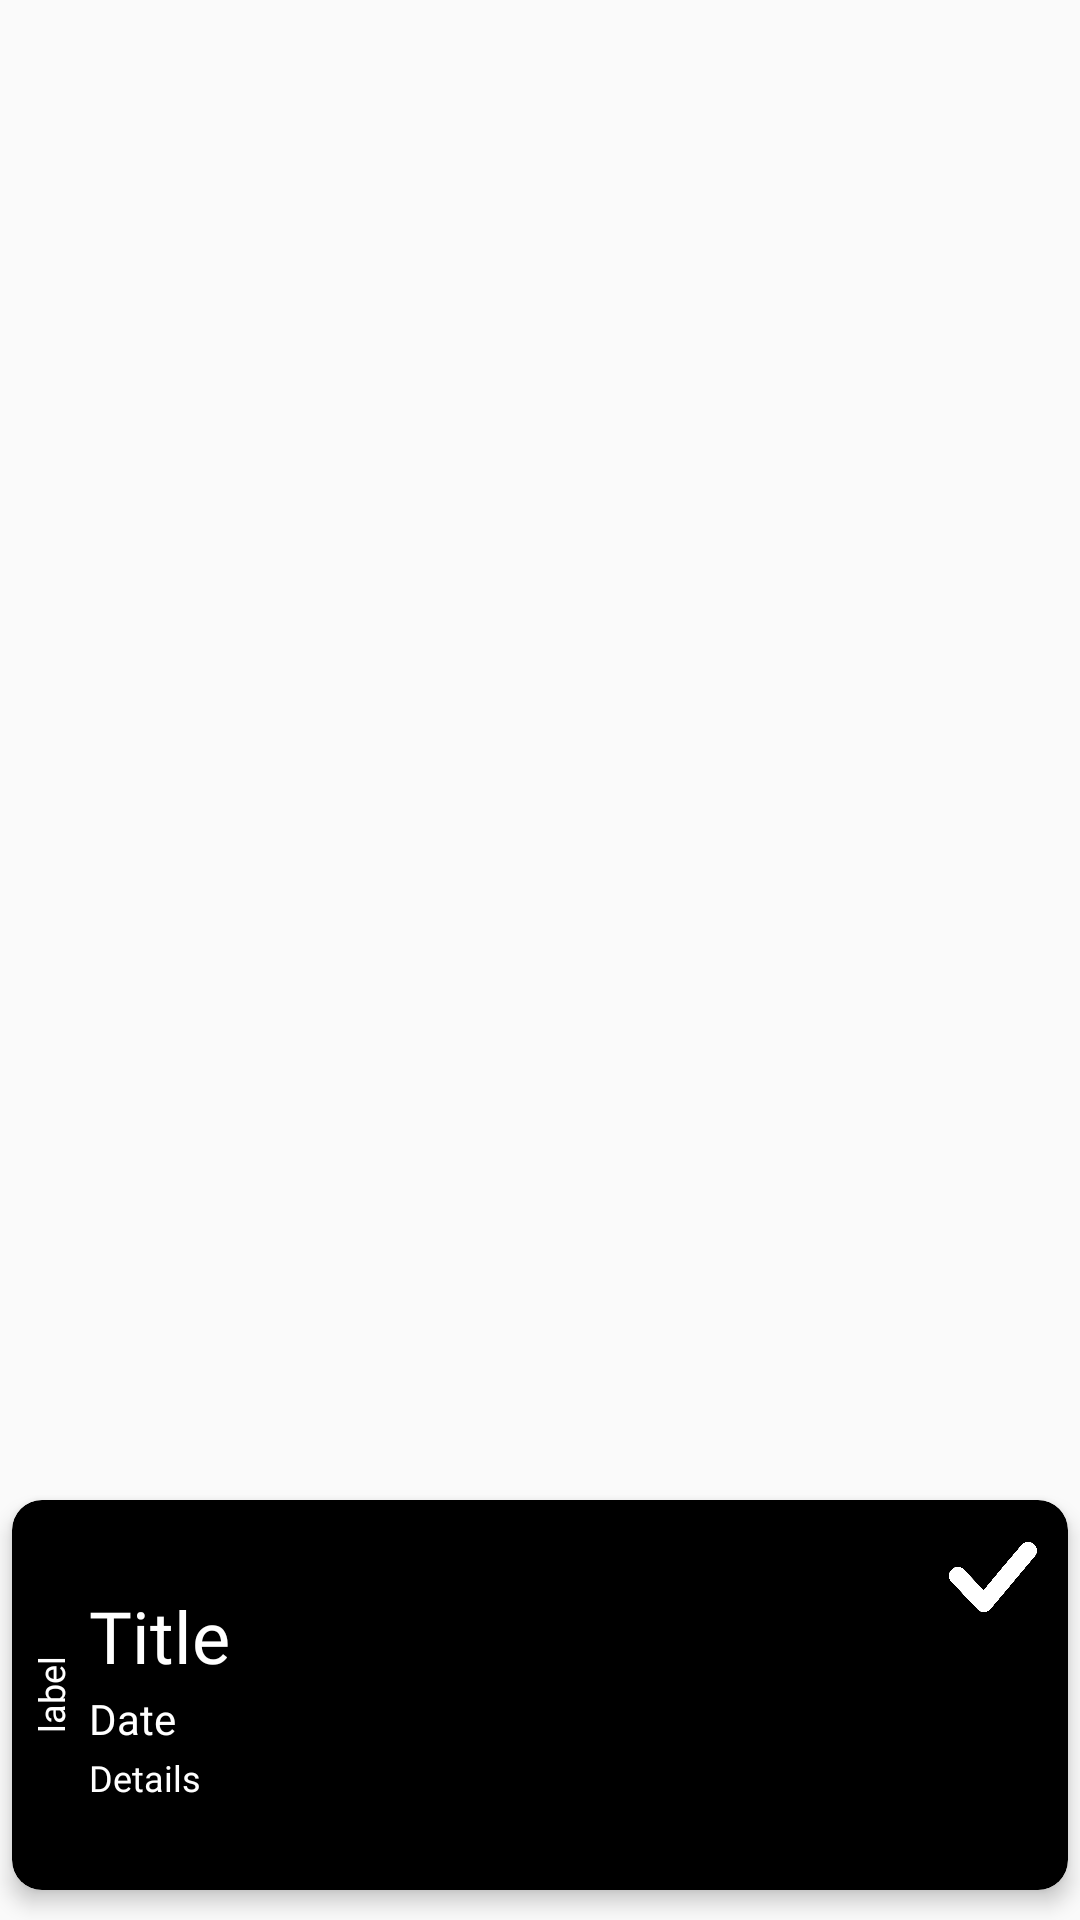

Icon click points for this 1080×1920 phone screenshot, format (x,y):
food intake check: (993,1577)
